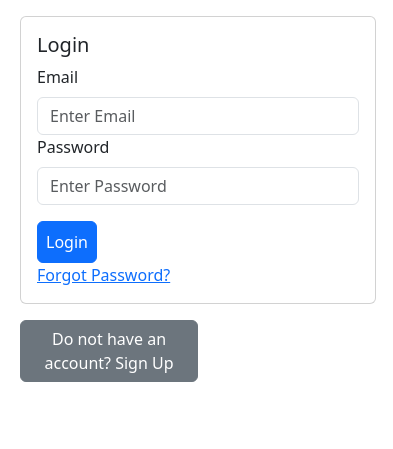
testing Login and signUp page › testing SignUp page with Sign Up header and Sign Up btn
Click the button "Do not have an account? Sign Up": (109, 351) [20, 320, 198, 382]
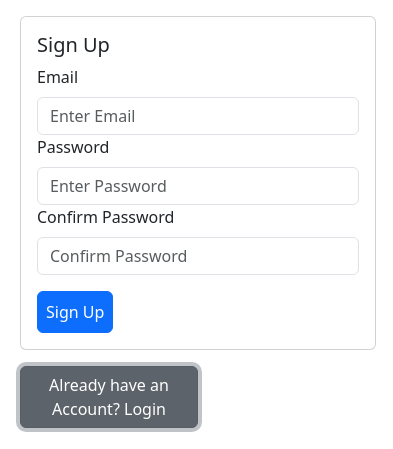
Expected: the text "Sign Up" is shown, [37, 31, 110, 58]
Expected: the button "Sign Up" is shown, [37, 291, 113, 333]
